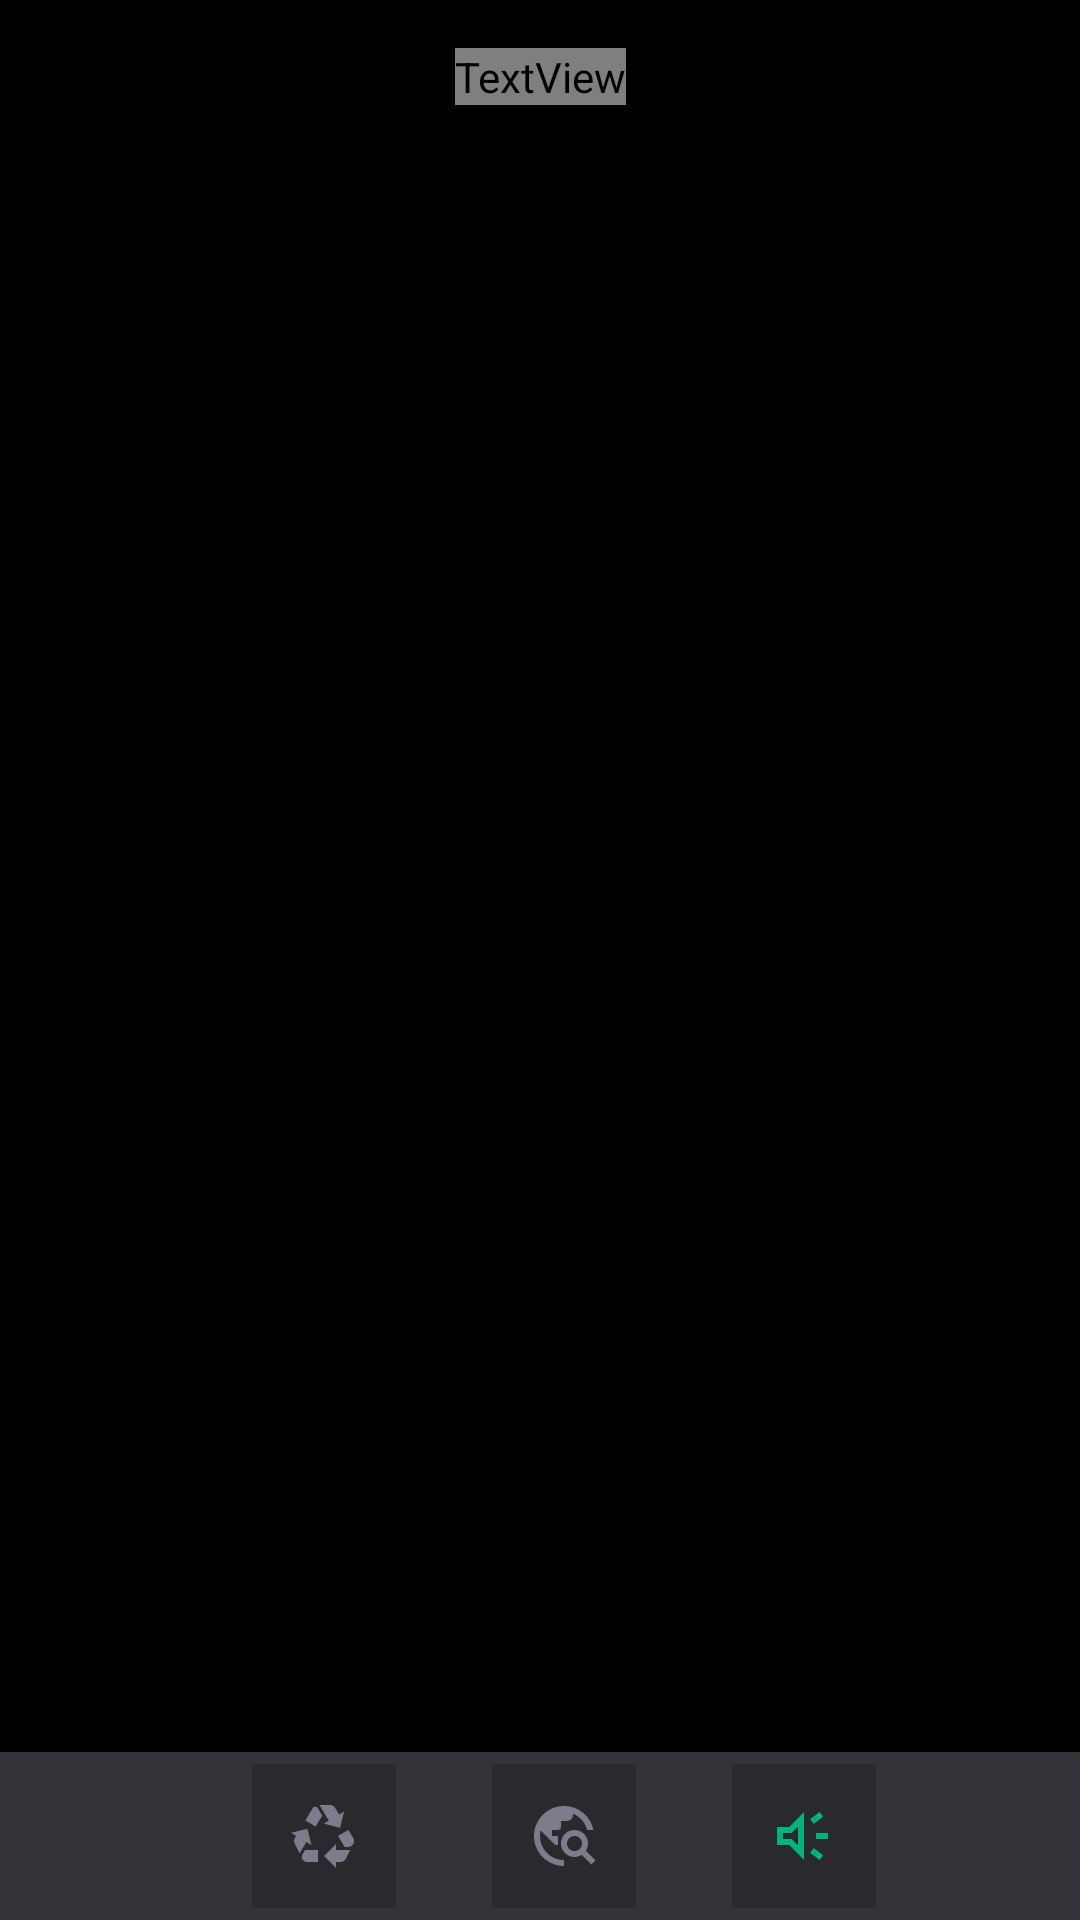

Named icons in this screenshot (1080*1920) and their centers, [x,y]:
reciclercinza: [324,1836]
travel explore: [564,1836]
